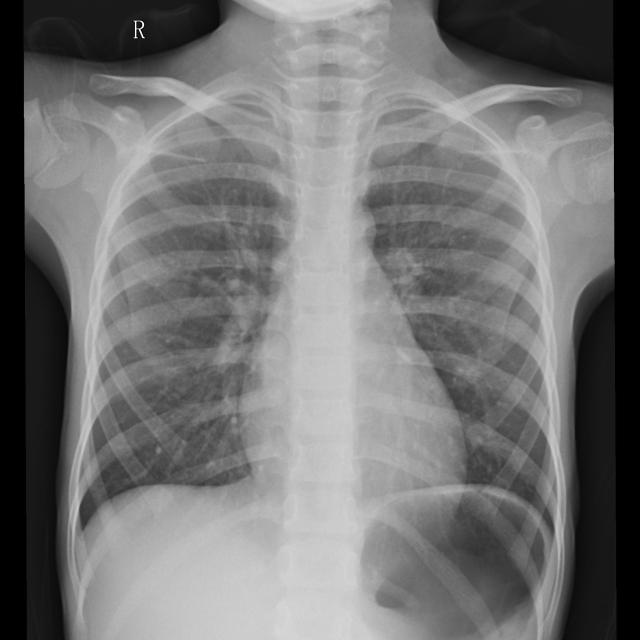no-pneumonia: (76, 85, 293, 528), (362, 89, 558, 532)
